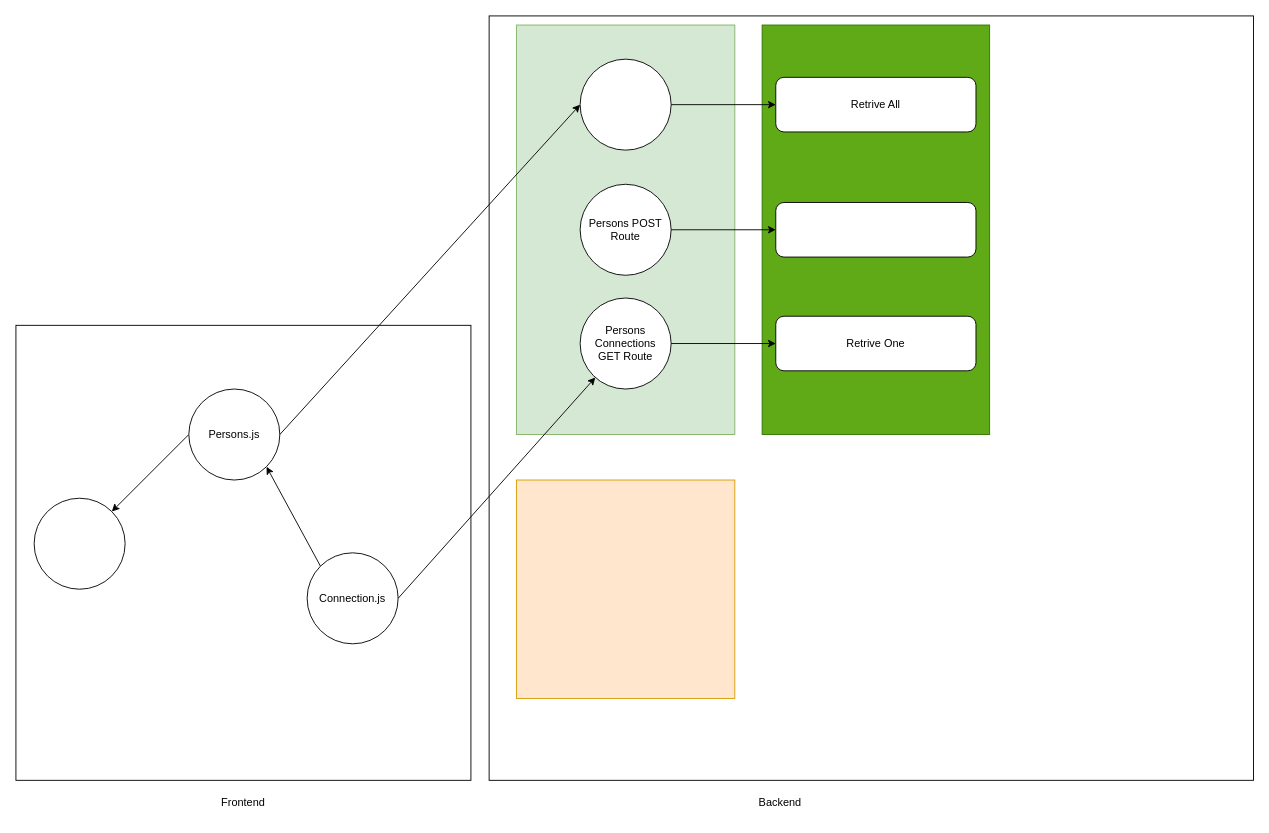
Some shapes in this 1269 by 833 pixel diagram are drawn without their labels. Each missing label, with the box of its shape:
App.js: (33, 497, 125, 589)
Create: (775, 202, 976, 257)
Persons GET Route: (579, 58, 671, 150)
